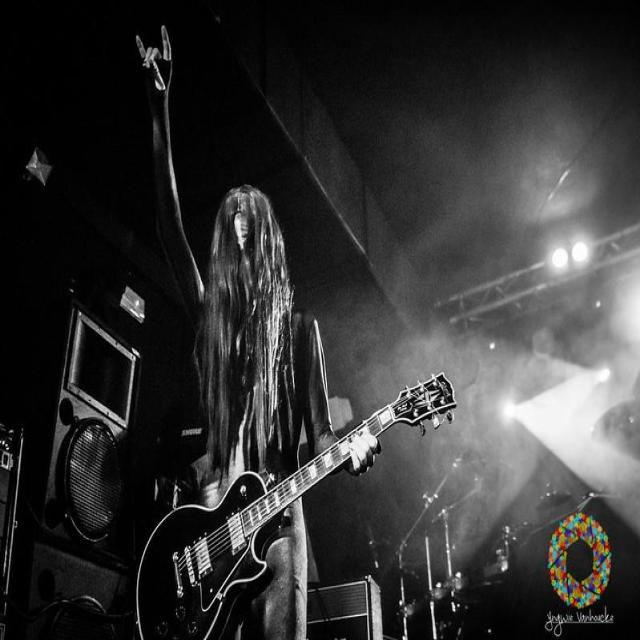guitar: (137, 374, 455, 639)
